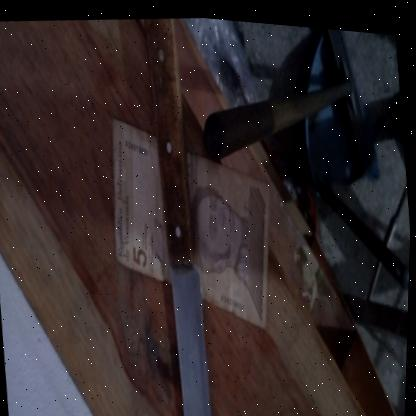five-front-vef: (100, 98, 287, 341)
